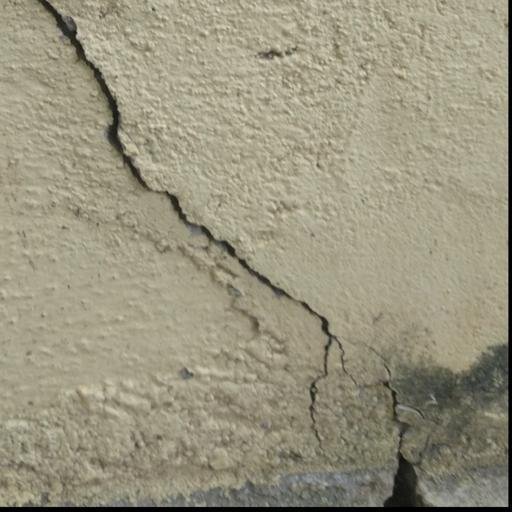major_crack: (31, 0, 439, 507)
